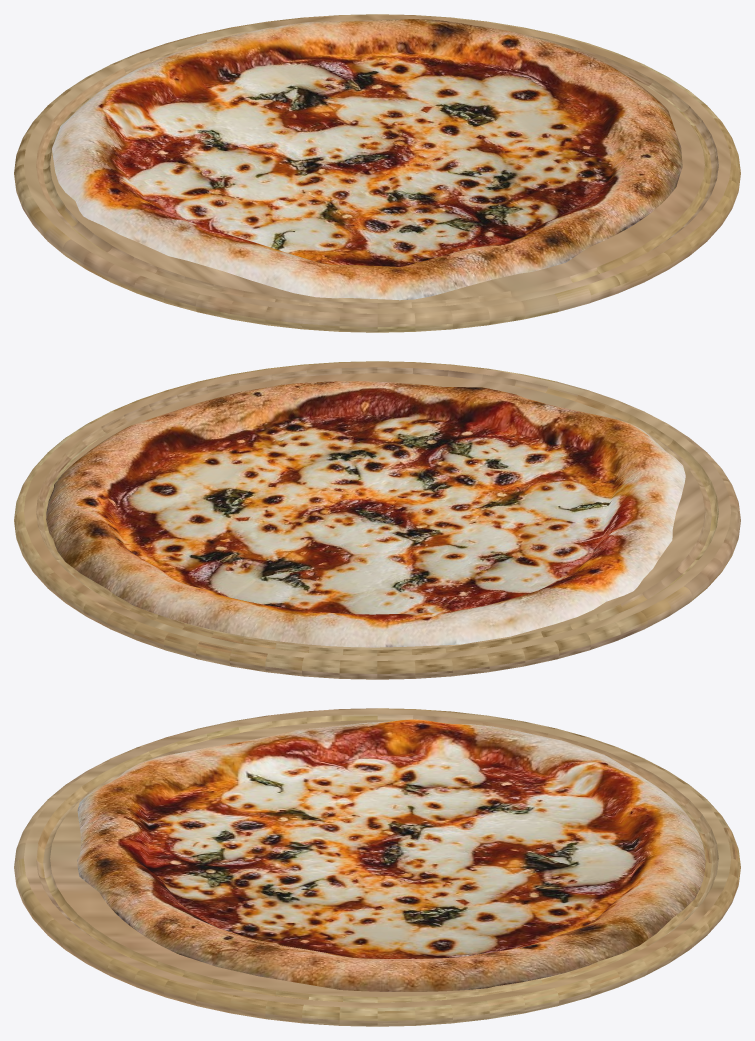
The picture shows the model from 3 angles, top to bottom: view 1: azimuth 30°, elevation 25°; view 2: azimuth 150°, elevation 25°; view 3: azimuth 270°, elevation 25°; orthographic projection.
Visible parts, largest first — view 1: Material2 (×2); view 2: Material2 (×2); view 3: Material2 (×2).
Part boxes in pixels (left/top/right/bottom): Material2 (×2): left=14, top=14, right=740, bottom=332; Material2 (×2): left=14, top=361, right=740, bottom=679; Material2 (×2): left=14, top=708, right=740, bottom=1026.
Size of the model in its own units: 9.15 by 0.464 by 9.15.
2 materials, 2 textured.
